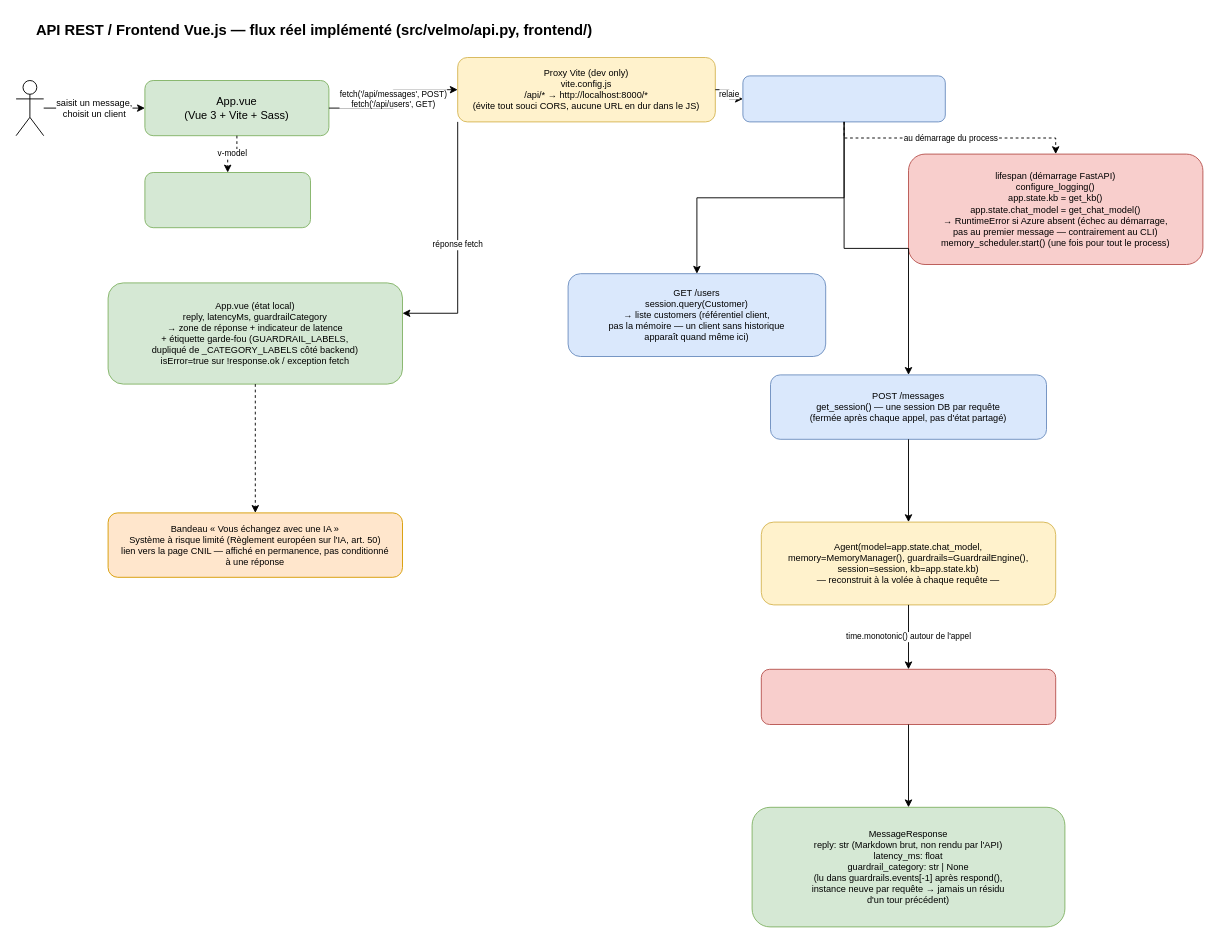
The diagram is 1219 pixels wide and 943 high, and some of its shapes have lost their labels. The box of each missing label's shape, as (x1, y1, x2, y2) in pixels:
agent.respond(user_id, message) — même agent que le CLI : garde-fous + mémoire —: (760, 668, 1056, 724)
AppNav.vue dropdown profil → update:selectedUserId: (144, 172, 310, 228)
Client: (15, 80, 44, 136)
FastAPI (src/velmo/api.py): (742, 75, 945, 122)
